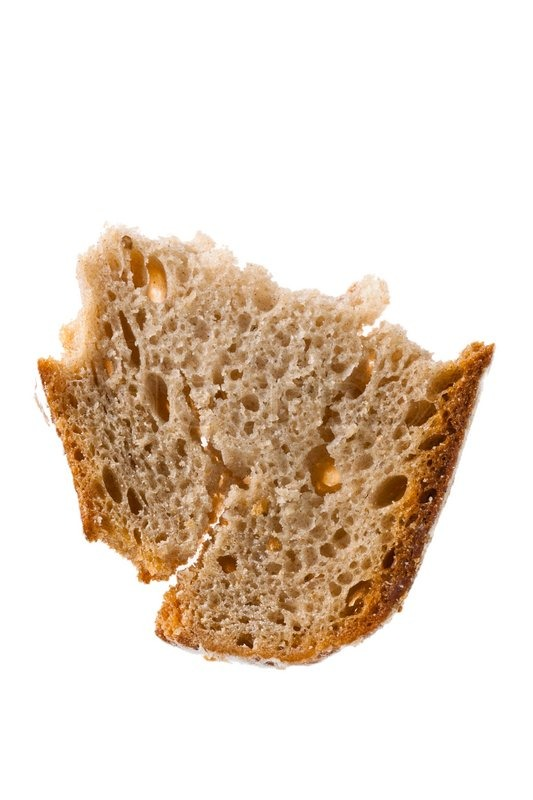slice of bread: (34, 228, 487, 672)
